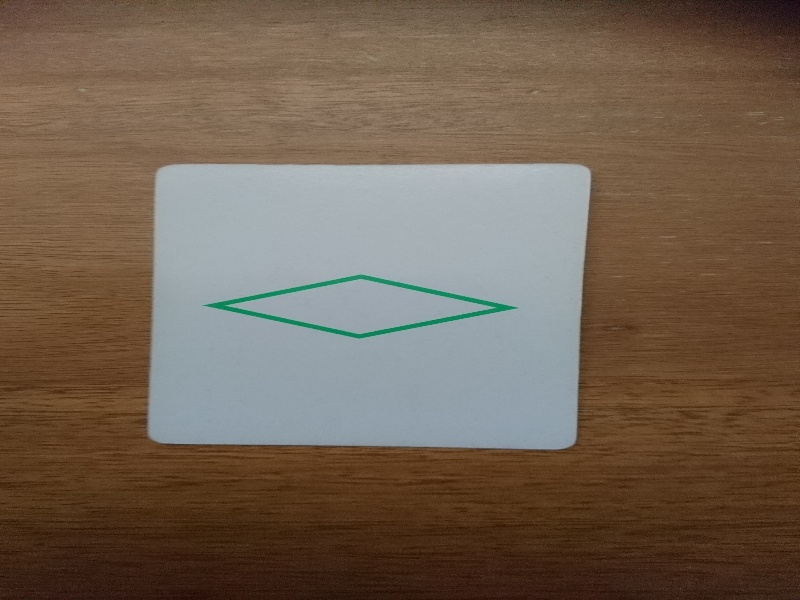1dge: (132, 147, 600, 460)
